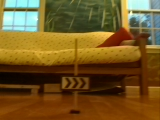right: (60, 76, 89, 91)
